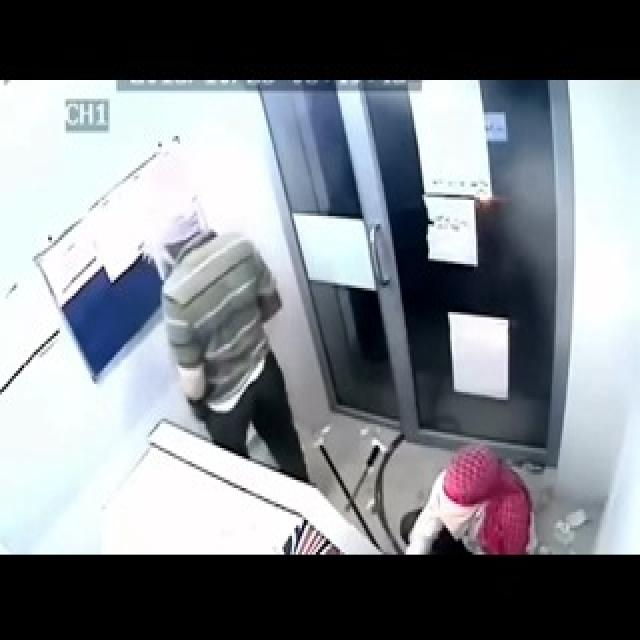thief: (360, 398, 554, 569), (163, 204, 295, 441)
